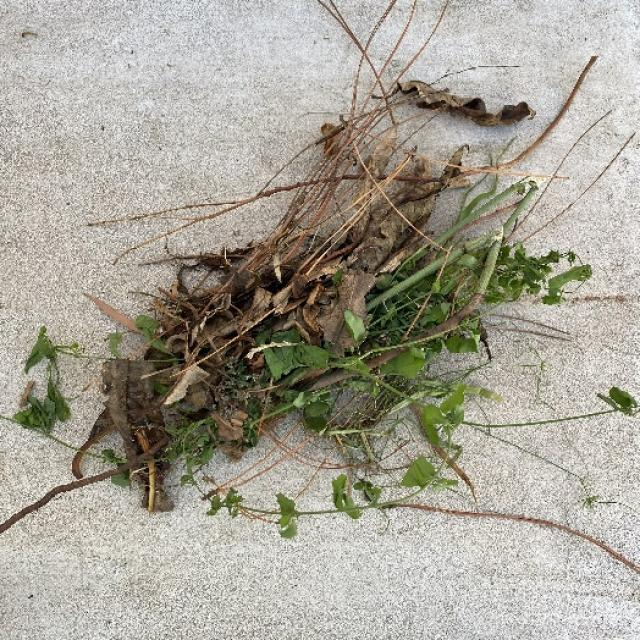organik: (111, 129, 551, 532)
